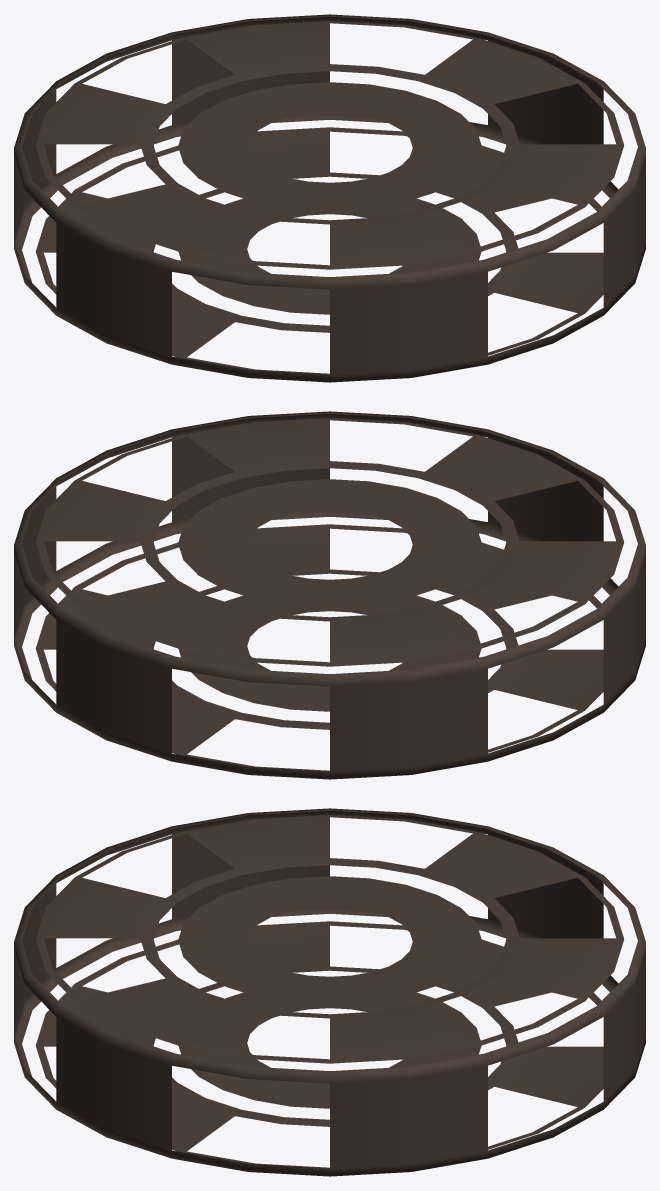
The model's file is gambling_chip.fbx.
3 views of the same model, one above another, from view 1: azimuth 30°, elevation 25°; view 2: azimuth 150°, elevation 25°; view 3: azimuth 270°, elevation 25° (orthographic).
Parts seen in each view (by area): view 1: Chip.001; view 2: Chip.001; view 3: Chip.001.
Part boxes in pixels (x1,y1,x2,y2): Chip.001: [14, 14, 645, 382]; Chip.001: [14, 411, 645, 779]; Chip.001: [14, 808, 645, 1176].
Size of the model in its own units: 3.68 by 0.6969 by 3.68.
